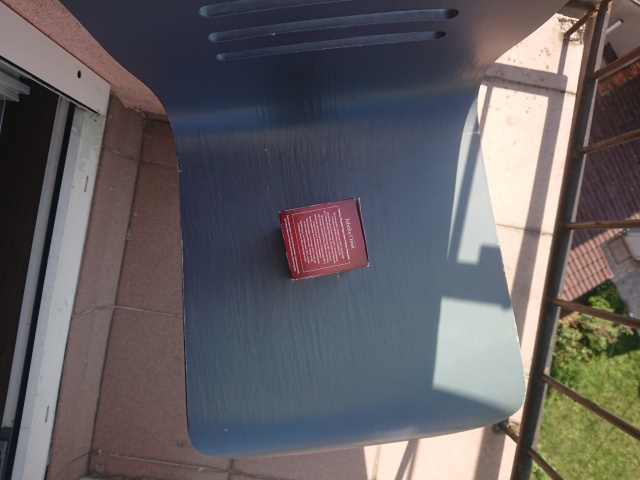Franck Apple Cinnamon Tea 60g: (276, 194, 371, 281)
